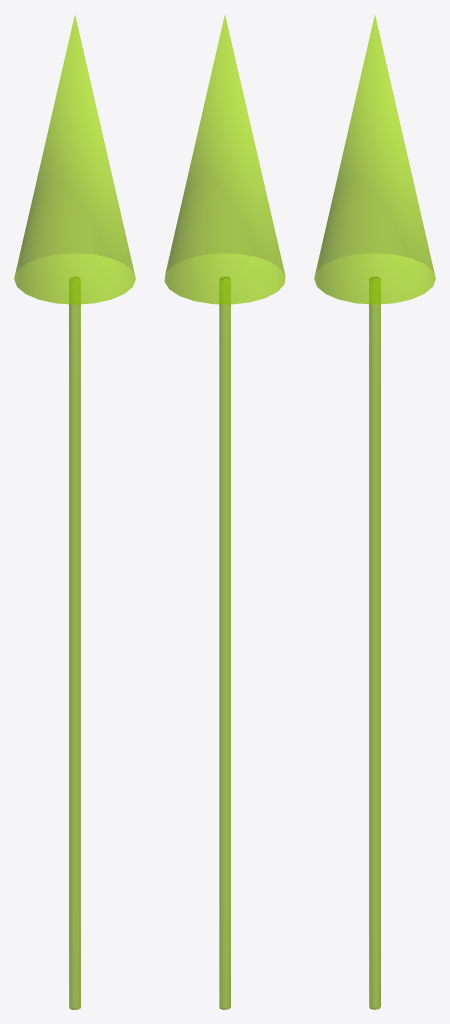
Rendered from gizmoMoveY.fbx.
The picture shows the model from 3 angles, left to right: view 1: azimuth 90°, elevation 25°; view 2: azimuth 150°, elevation 25°; view 3: azimuth 270°, elevation 25°; orthographic projection.
Parts seen in each view (by area): view 1: gizmoMoveY; view 2: gizmoMoveY; view 3: gizmoMoveY.
Part boxes in pixels (x1=…): gizmoMoveY: x1=14, y1=15, x2=135, y2=1009; gizmoMoveY: x1=164, y1=15, x2=285, y2=1009; gizmoMoveY: x1=314, y1=15, x2=435, y2=1009.
Size of the model in its own units: 5 by 45 by 5.
